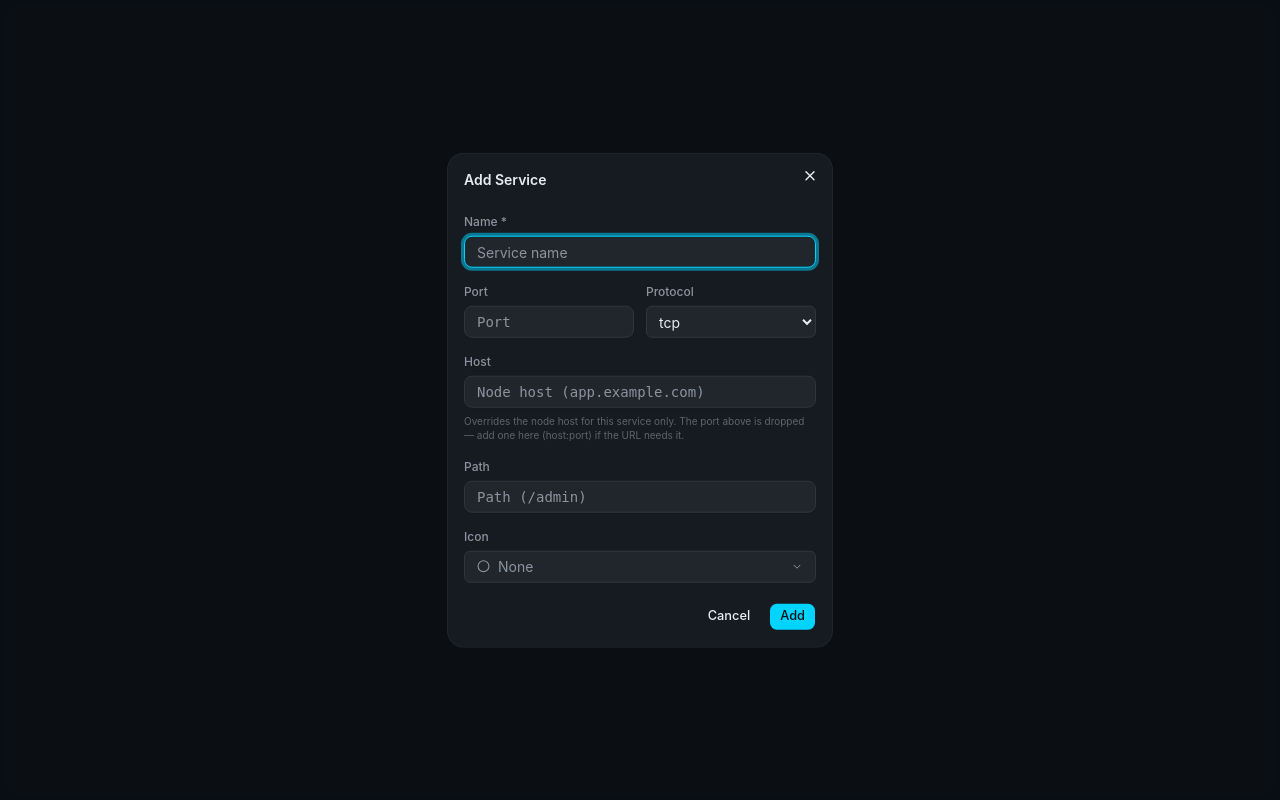
Scenario: ServiceModal › form submission › strips non-digits from the port field
The width and height of the screenshot is (1280, 800).
Type "8a0b80" into the field with placeholder "Port" at (549, 322), box left=464, top=306, right=634, bottom=338
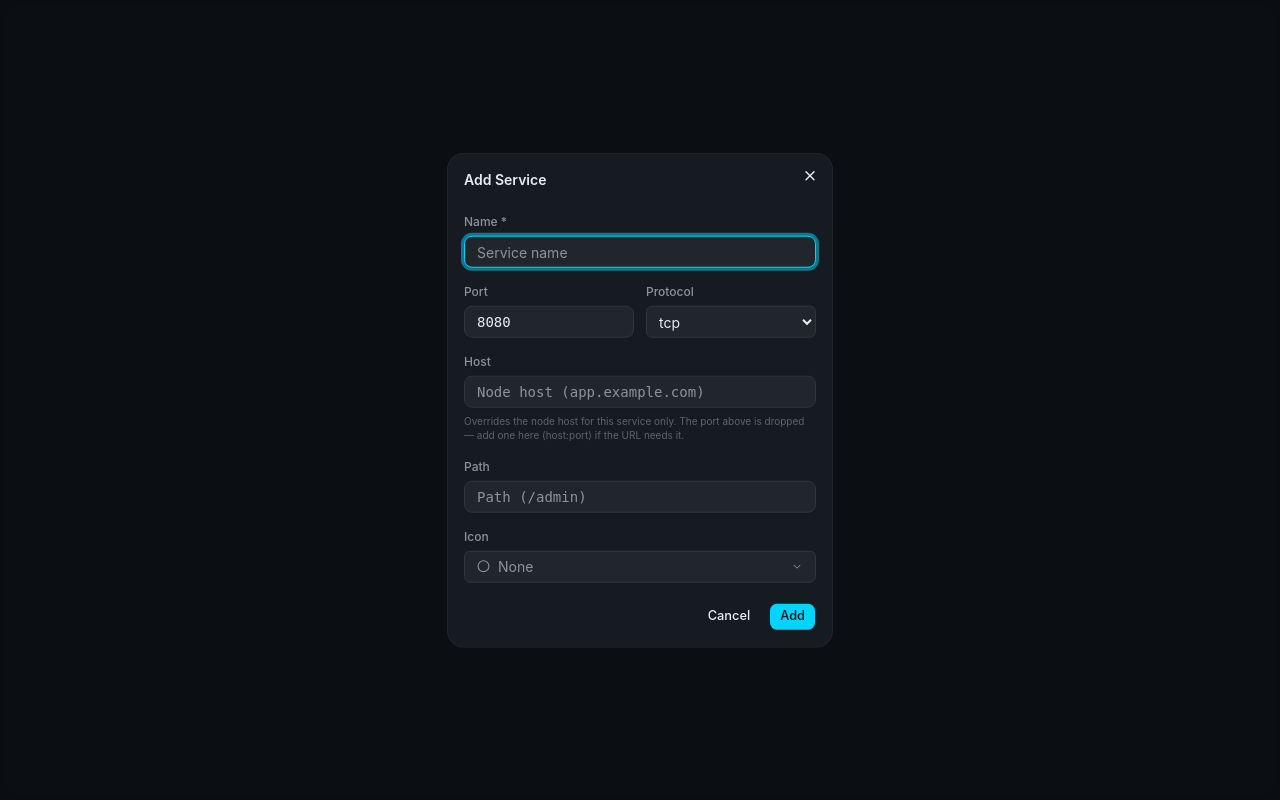
expect the field with placeholder "Port" holds "8080": met, box left=464, top=306, right=634, bottom=338
